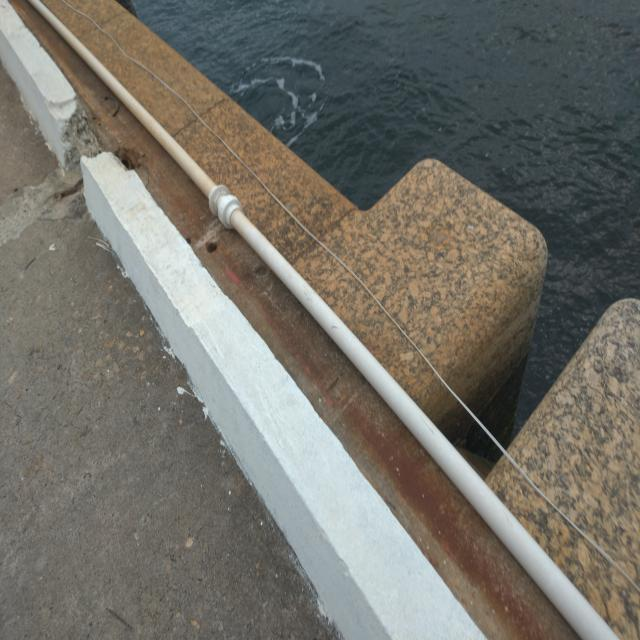gas: (28, 0, 618, 638)
